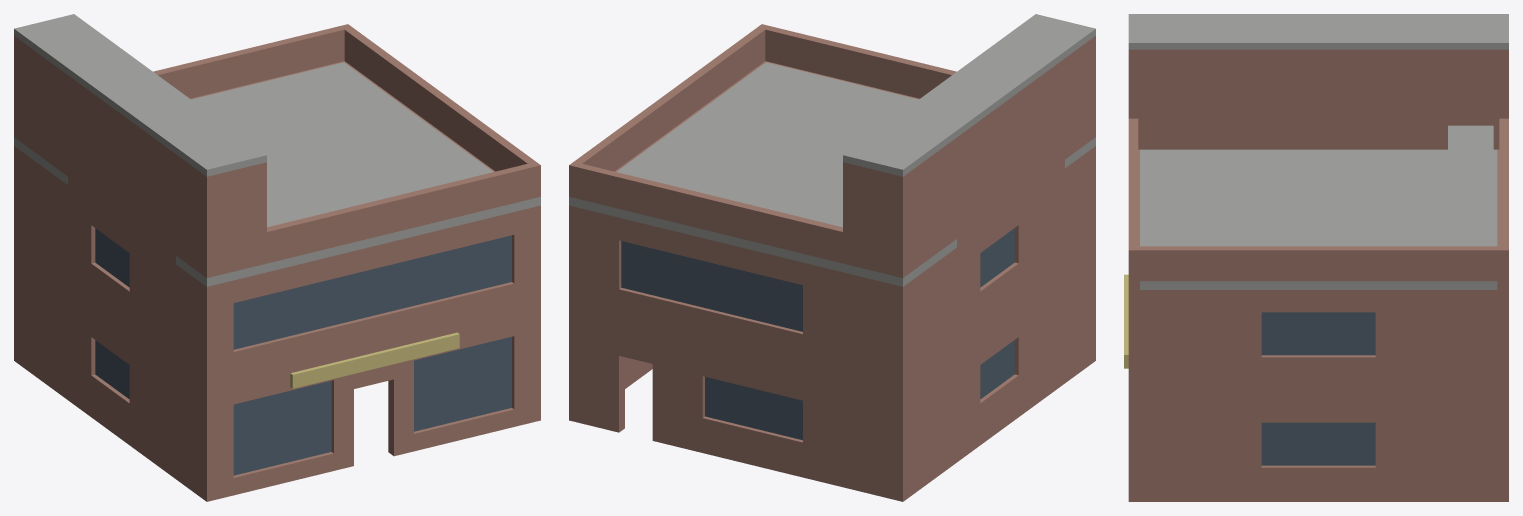
The model's file is townhouse.walls-v1.lod1.glb.
3 views of the same model, side by side, from view 1: azimuth 30°, elevation 25°; view 2: azimuth 150°, elevation 25°; view 3: azimuth 270°, elevation 25° (orthographic).
Visible parts, largest first — view 1: townhouse; view 2: townhouse; view 3: townhouse.
Part boxes in pixels (x1=…): townhouse: x1=14, y1=14, x2=540, y2=501; townhouse: x1=569, y1=14, x2=1095, y2=501; townhouse: x1=1124, y1=14, x2=1508, y2=501.
Bounding box in the file's own units: 10 × 9.5 × 10.12.
